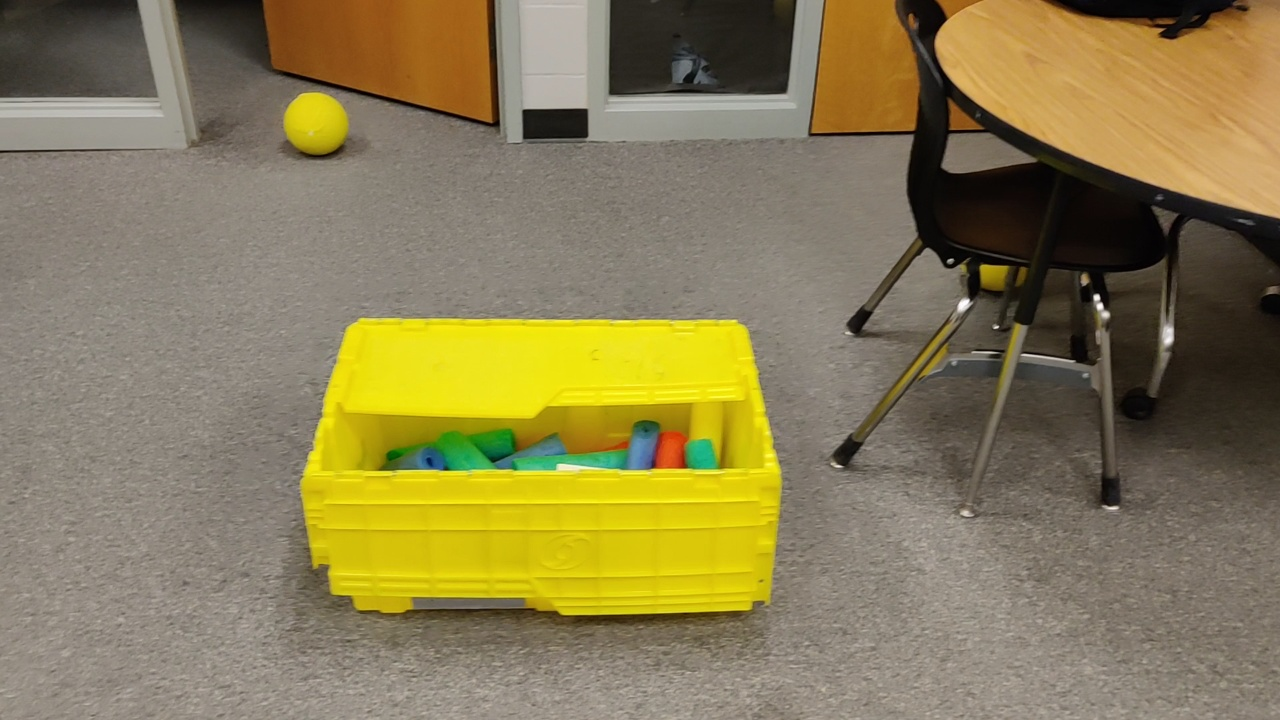Ball: (281, 92, 352, 156)
